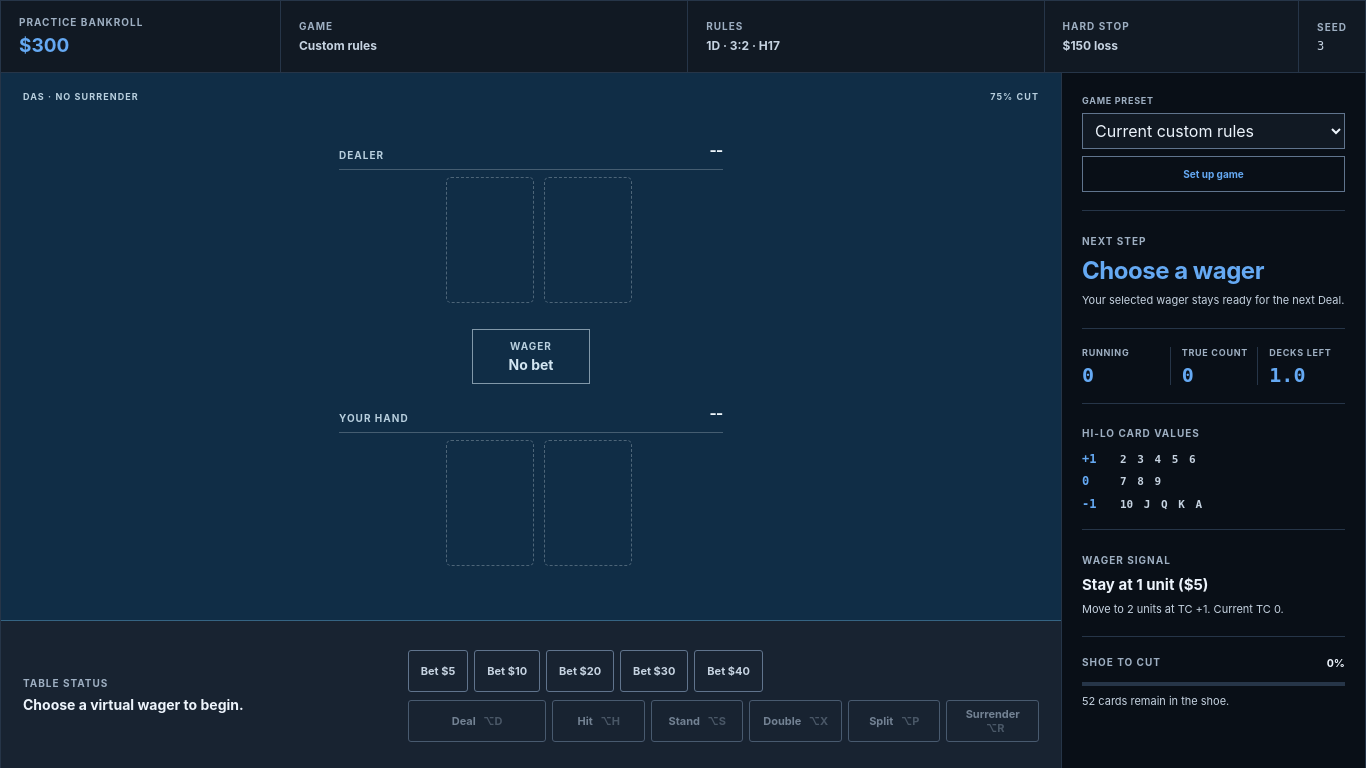
BlackjackTable › maps a positive true count to the shared unit ramp
Step 1. Click the button "Bet $5" → (438, 671), box [408, 650, 468, 692]
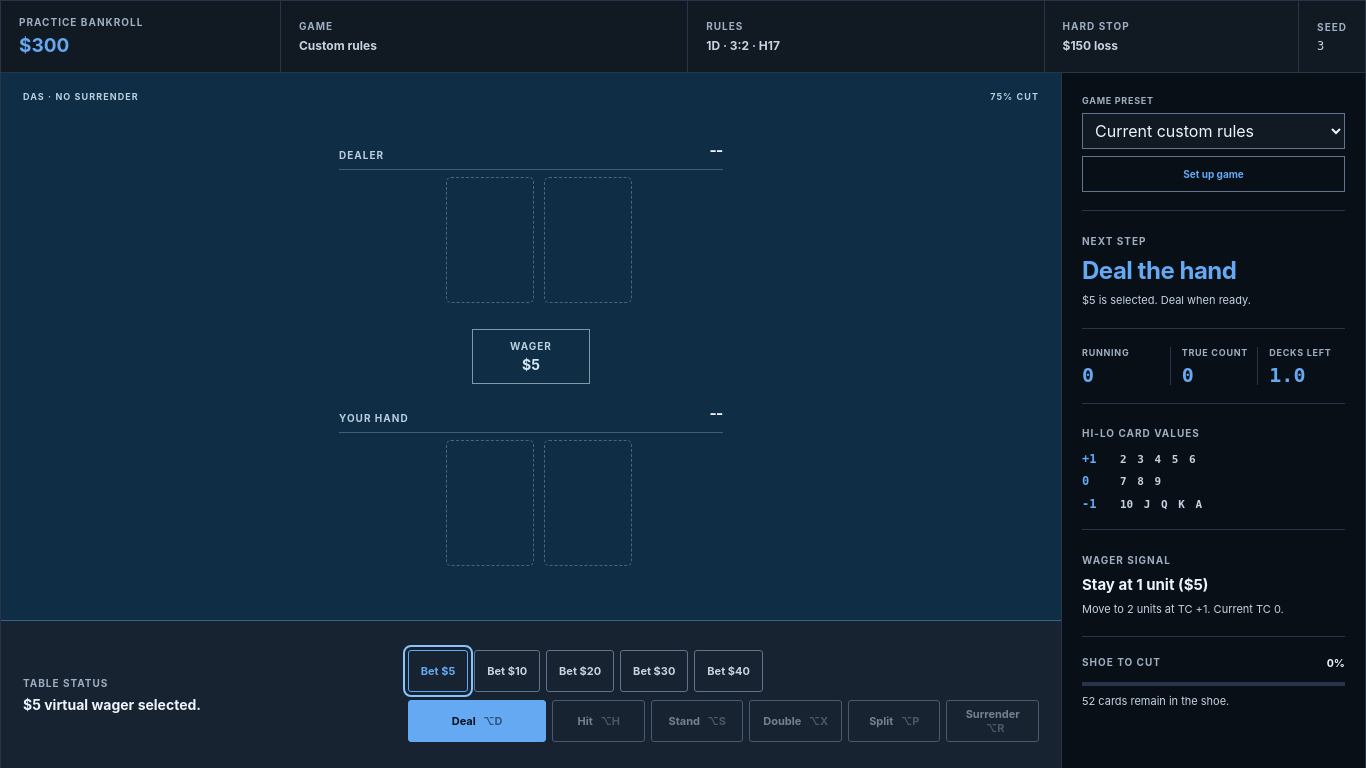
Step 2. Click the button "Deal ⌥D" → (477, 721), box [408, 700, 546, 742]
(page scrolled)
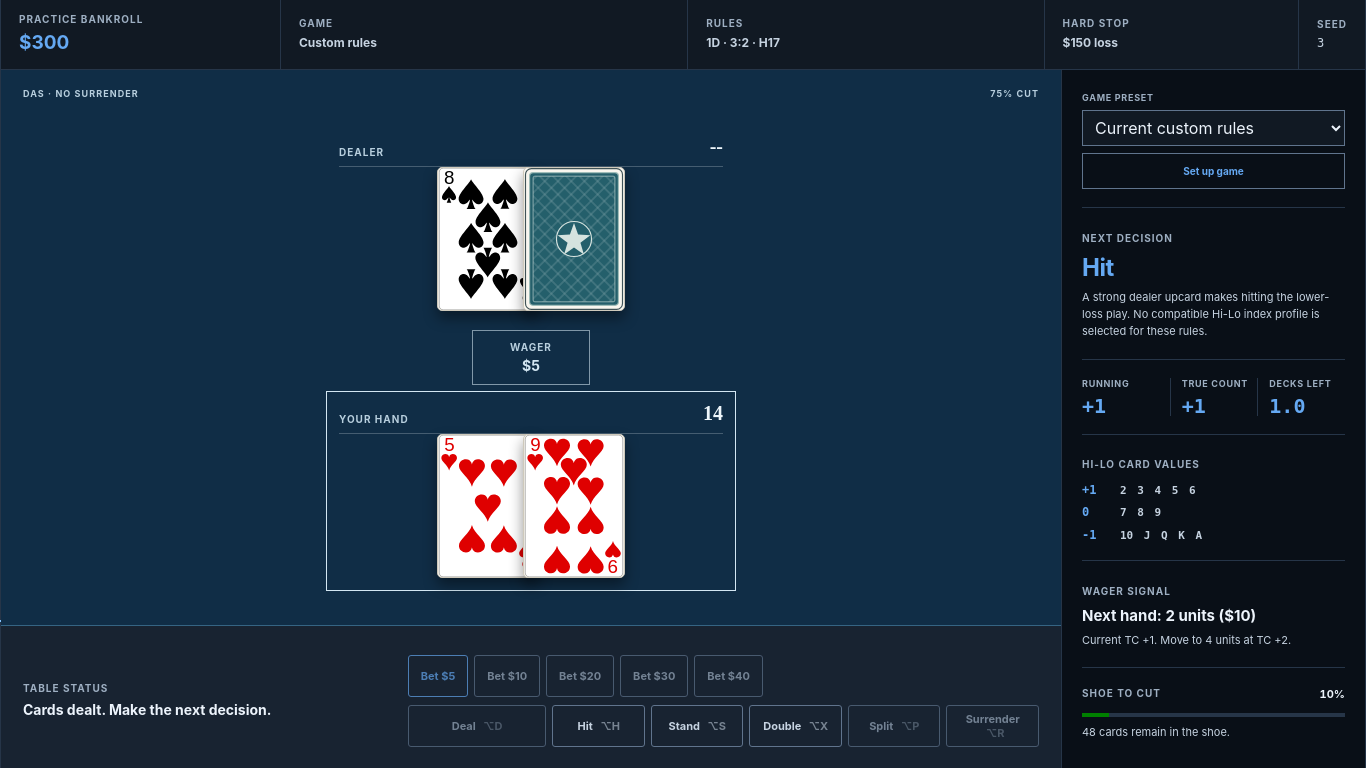
Expected: the element named "Wager guidance" shows "Next hand: 2 units ($10)", [1082, 606, 1256, 625]
Expected: the element named "Wager guidance" shows "Move to 4 units at TC +2.", [1082, 633, 1291, 647]
